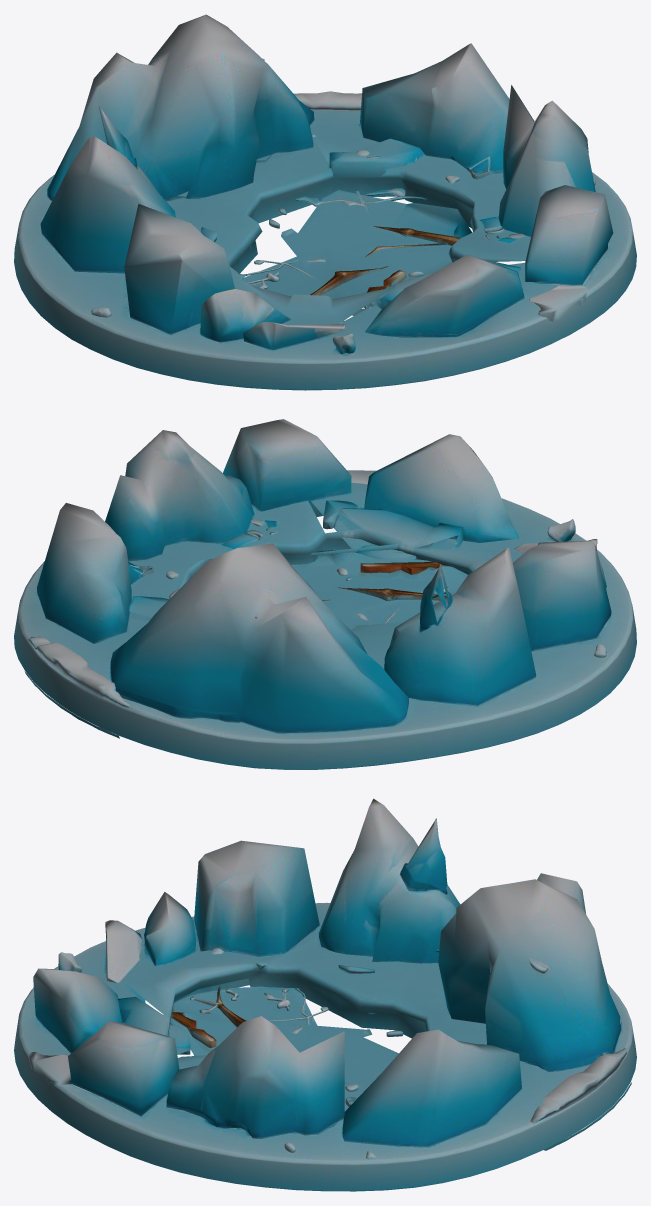
Rendered from ice.glb.
3 views of the same model, one above another, from view 1: azimuth 30°, elevation 25°; view 2: azimuth 150°, elevation 25°; view 3: azimuth 270°, elevation 25° (orthographic).
Parts seen in each view (by area): view 1: tripo_56a9fd6d_2553_438d_a92b_6153bb98935e; view 2: tripo_56a9fd6d_2553_438d_a92b_6153bb98935e; view 3: tripo_56a9fd6d_2553_438d_a92b_6153bb98935e.
Boxes of the visible parts, bbox=[...] form: tripo_56a9fd6d_2553_438d_a92b_6153bb98935e: bbox=[14, 14, 636, 390]; tripo_56a9fd6d_2553_438d_a92b_6153bb98935e: bbox=[14, 419, 636, 769]; tripo_56a9fd6d_2553_438d_a92b_6153bb98935e: bbox=[14, 798, 636, 1191].
Size of the model in its own units: 0.9995 by 0.311 by 0.9995.
Materials: 1 (1 with a texture image).
